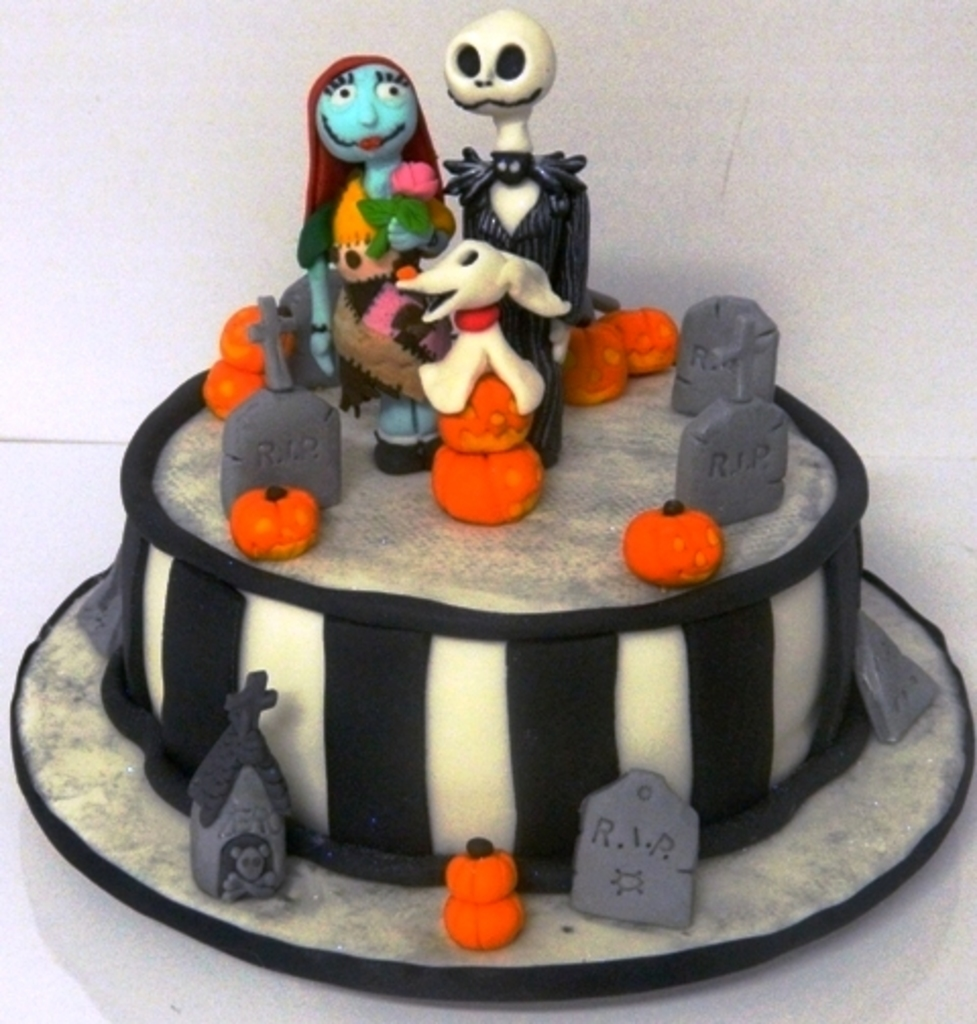cake: (71, 6, 946, 957)
